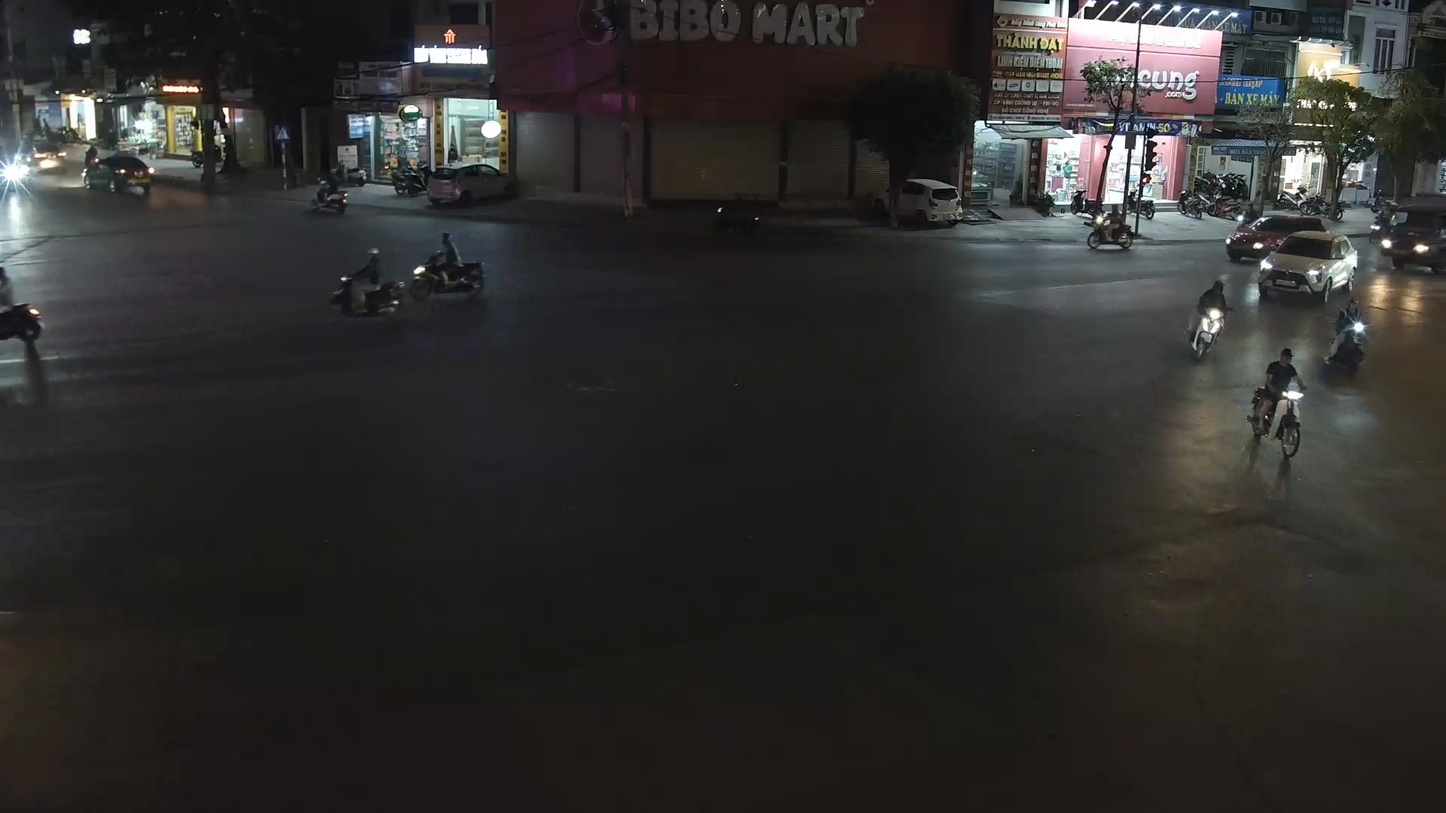car: (1257, 223, 1359, 303), (1224, 207, 1321, 265), (1380, 189, 1445, 275), (0, 254, 44, 351)
motorbike: (1243, 345, 1307, 462), (325, 245, 407, 326), (408, 230, 489, 302), (1321, 298, 1371, 381), (1187, 276, 1230, 361), (1084, 200, 1138, 252)
